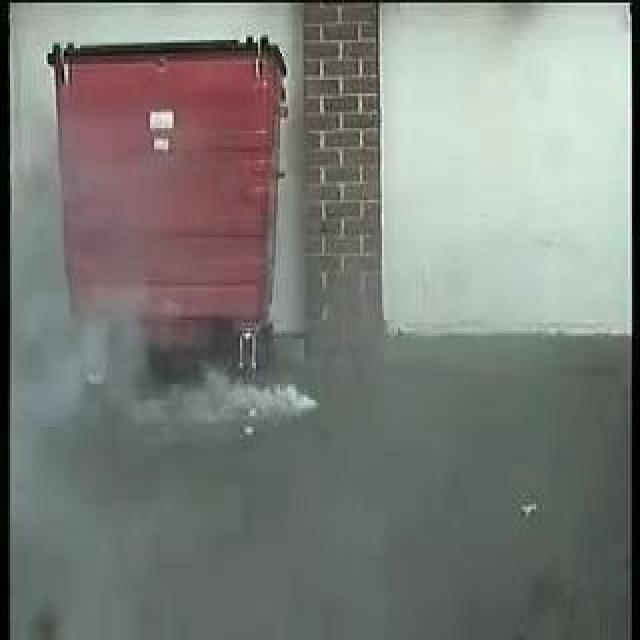Smoke: (74, 325, 322, 427)
